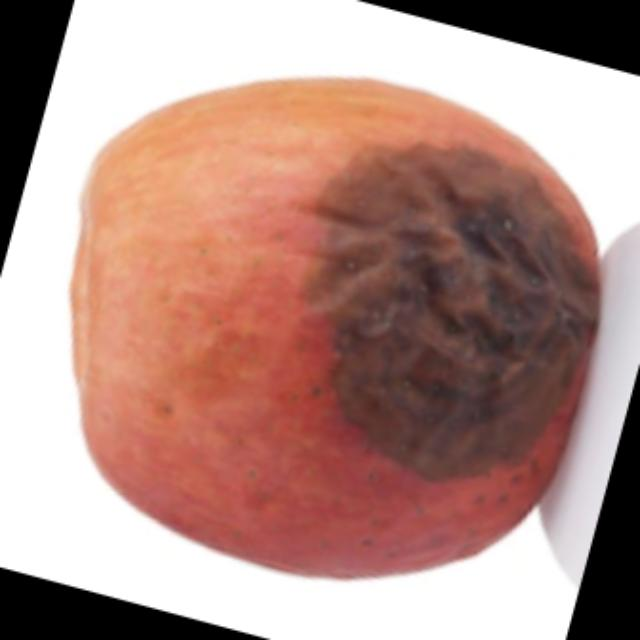Apel Tidak Segar: (70, 83, 610, 588)
